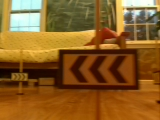left: (60, 50, 138, 88)
right: (11, 73, 29, 82)
